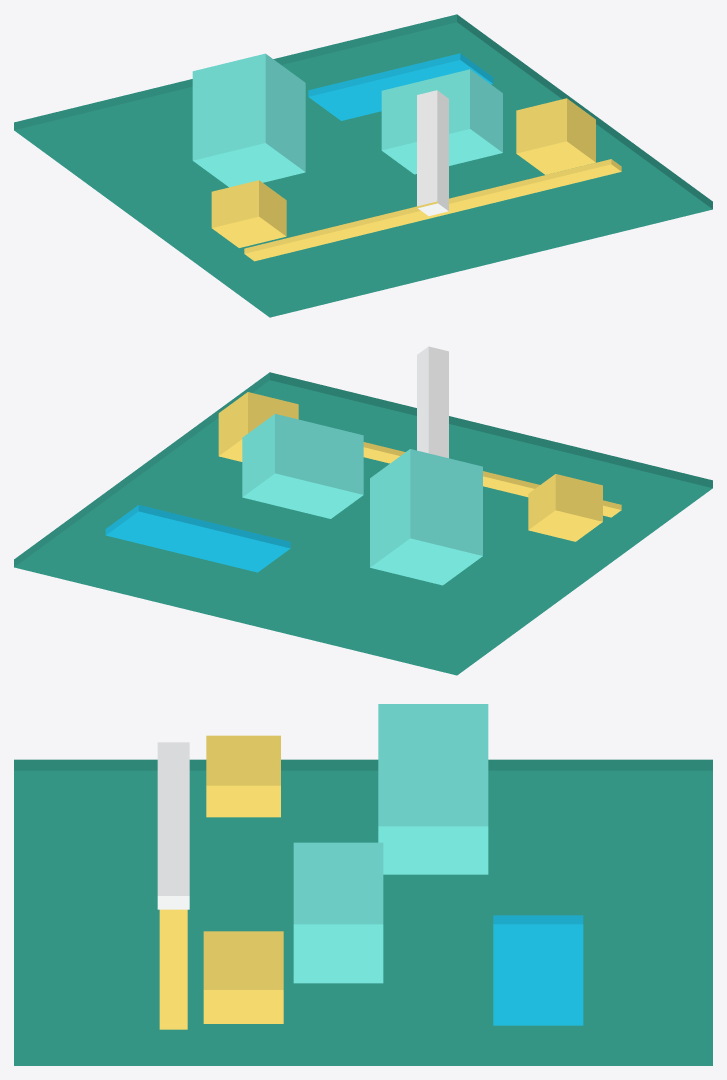
Rendered from real-estate-island.glb.
3 renders of one model, top to bottom at view 1: azimuth 30°, elevation 25°; view 2: azimuth 150°, elevation 25°; view 3: azimuth 270°, elevation 25°, orthographic. The views are drawn at different scales.
Parts seen in each view (by area): view 1: environment floor, main structure, secondary structure, route layer, context block b, environment plane, context block a, observation marker; view 2: environment floor, main structure, secondary structure, environment plane, context block a, observation marker, context block b, route layer; view 3: environment floor, main structure, secondary structure, environment plane, context block b, context block a, observation marker, route layer.
Part boxes in pixels (<box>): environment floor: <box>14,14,712,317</box>; main structure: <box>192,53,305,187</box>; secondary structure: <box>381,69,502,174</box>; route layer: <box>244,159,621,261</box>; context block b: <box>516,98,595,174</box>; environment plane: <box>308,53,493,120</box>; context block a: <box>211,180,286,247</box>; observation marker: <box>417,90,448,216</box>; environment floor: <box>14,372,712,675</box>; main structure: <box>370,449,482,585</box>; secondary structure: <box>242,414,363,518</box>; environment plane: <box>105,505,290,572</box>; context block a: <box>528,474,602,541</box>; observation marker: <box>417,346,448,458</box>; context block b: <box>218,392,298,461</box>; route layer: <box>363,442,621,517</box>; environment floor: <box>14,759,712,1065</box>; main structure: <box>378,704,488,874</box>; secondary structure: <box>293,842,383,983</box>; environment plane: <box>493,915,583,1025</box>; context block b: <box>203,931,283,1023</box>; context block a: <box>206,735,280,817</box>; observation marker: <box>157,742,189,909</box>; route layer: <box>159,909,187,1029</box>.
Bounding box in the file's own units: 7 × 1.87 × 7.
